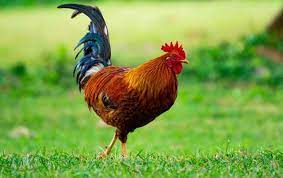Gà/Chicken: (44, 1, 210, 176)
